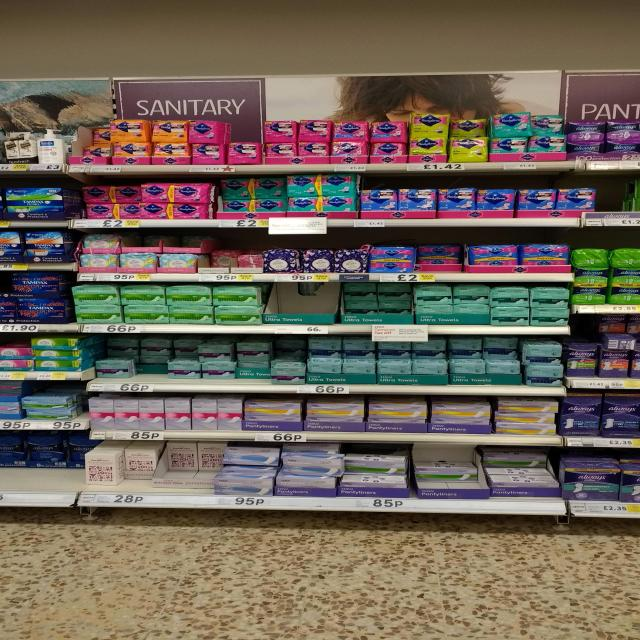empty_space: (277, 284, 330, 313), (602, 179, 626, 210)
